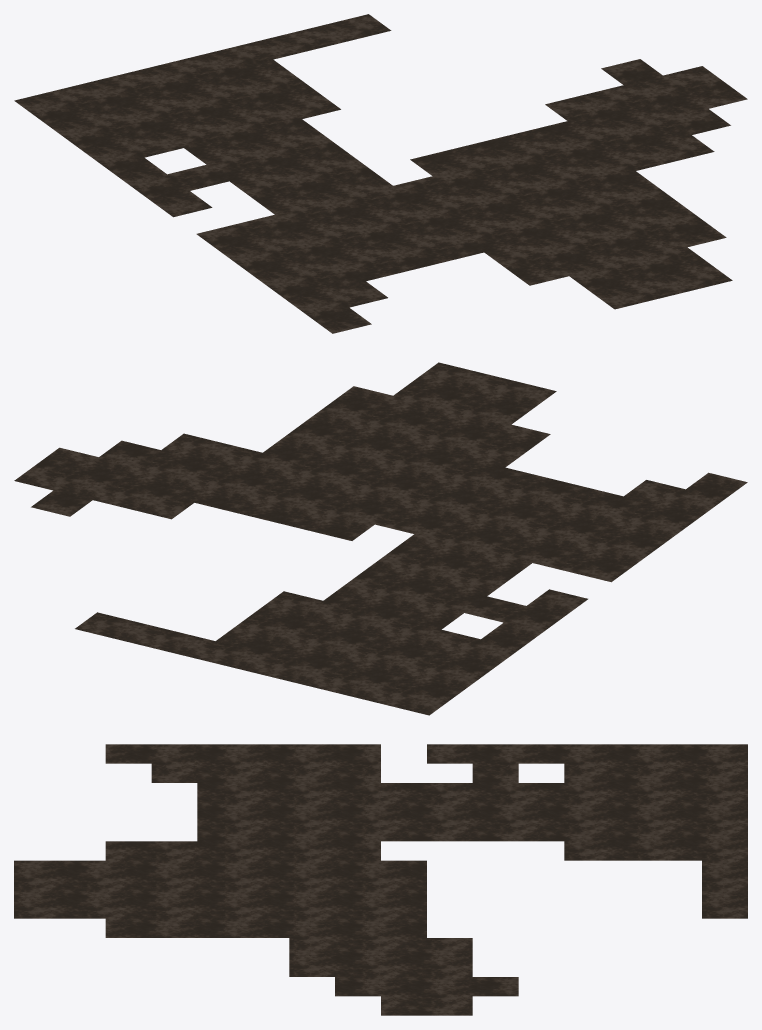
File: floor_0_-6.glb
3 renders of one model, top to bottom at view 1: azimuth 30°, elevation 25°; view 2: azimuth 150°, elevation 25°; view 3: azimuth 270°, elevation 25°, orthographic.
Parts seen in each view (by area): view 1: floor_0_-6; view 2: floor_0_-6; view 3: floor_0_-6.
Part boxes in pixels (bbox=[...]): floor_0_-6: bbox=[14, 14, 747, 333]; floor_0_-6: bbox=[14, 362, 747, 715]; floor_0_-6: bbox=[14, 744, 747, 1015].
Bounding box in the file's own units: 56 × 0 × 64.
Materials: 1 (1 with a texture image).
